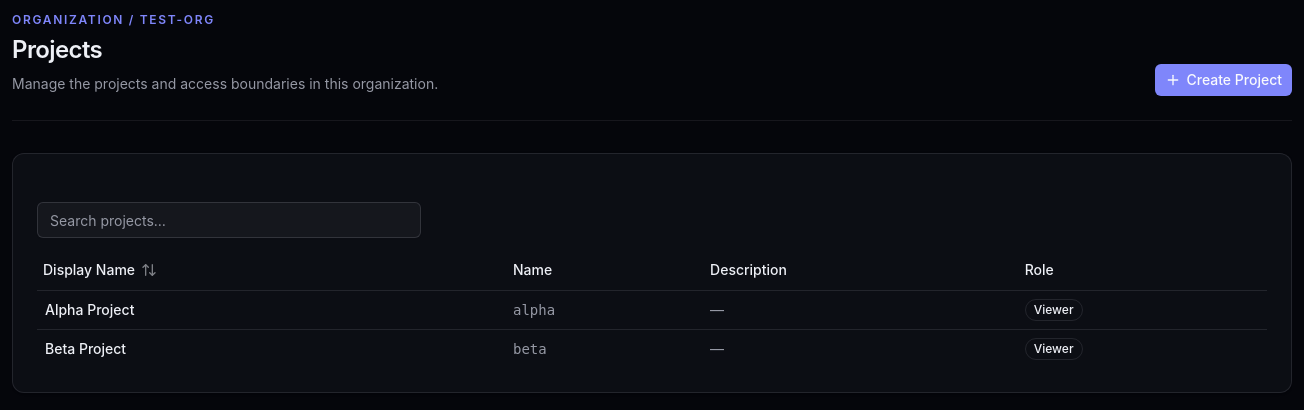
Test: ProjectsIndexPage › search input filters visible rows by display name
Type "alpha" into the field with placeholder "Search projects…". click: (229, 220)
box: left=37, top=202, right=421, bottom=238
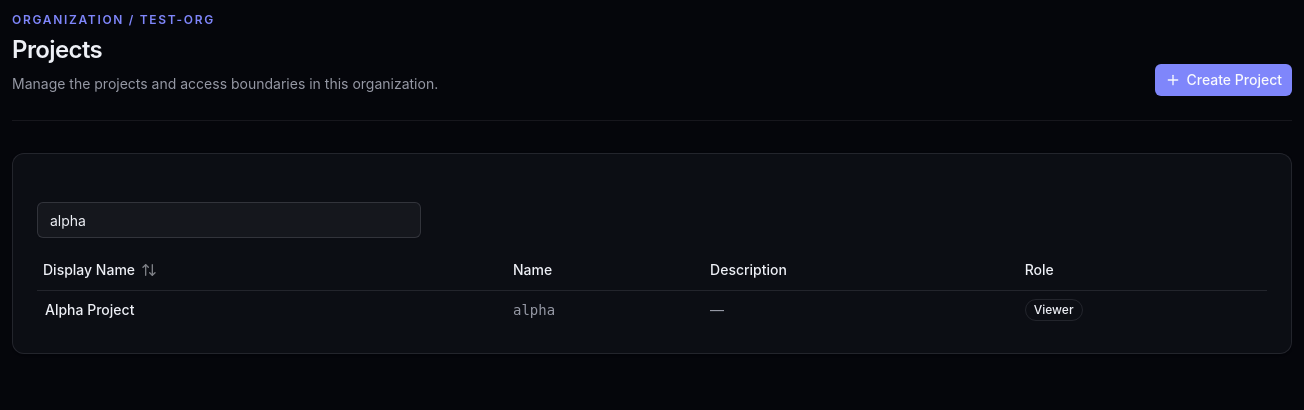
Check: the text "Alpha Project" is shown, box left=45, top=300, right=134, bottom=318
Check: the text "Beta Project" is gone
